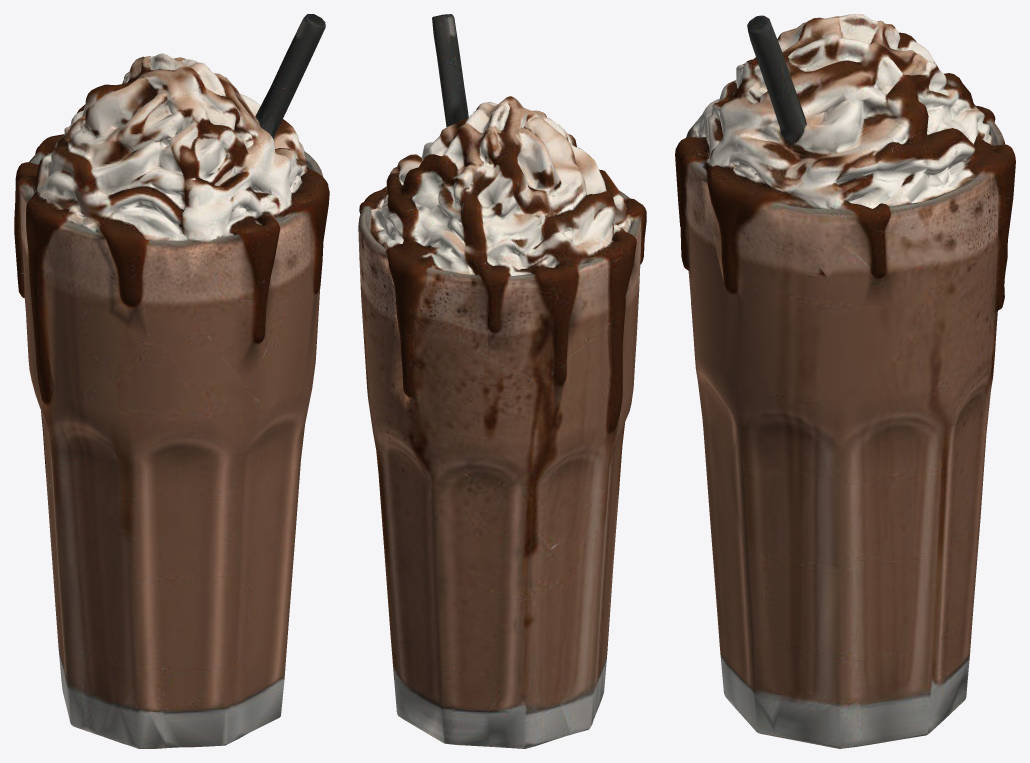
File: nutella-shake-sv.glb
3 views of the same model, side by side, from view 1: azimuth 30°, elevation 25°; view 2: azimuth 150°, elevation 25°; view 3: azimuth 270°, elevation 25° (orthographic). The views are drawn at different scales.
Visible parts, largest first — view 1: mesh_node; view 2: mesh_node; view 3: mesh_node.
Part boxes in pixels (box(x1,y1,x2,y2)): mesh_node: box(14, 14, 329, 748); mesh_node: box(358, 14, 646, 748); mesh_node: box(675, 14, 1015, 748).
Size of the model in its own units: 0.00669 by 0.0162 by 0.00683.
Materials: 1 (1 with a texture image).
